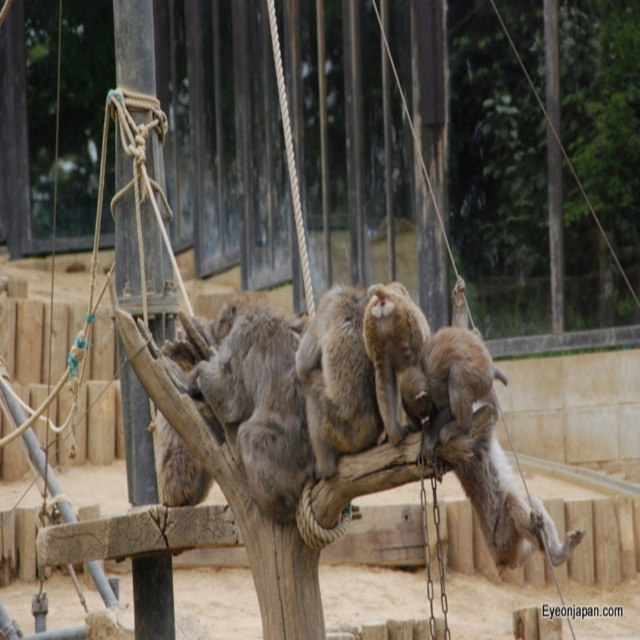Monkey: (164, 294, 310, 525), (286, 283, 364, 471), (395, 325, 497, 445), (364, 285, 425, 433)
